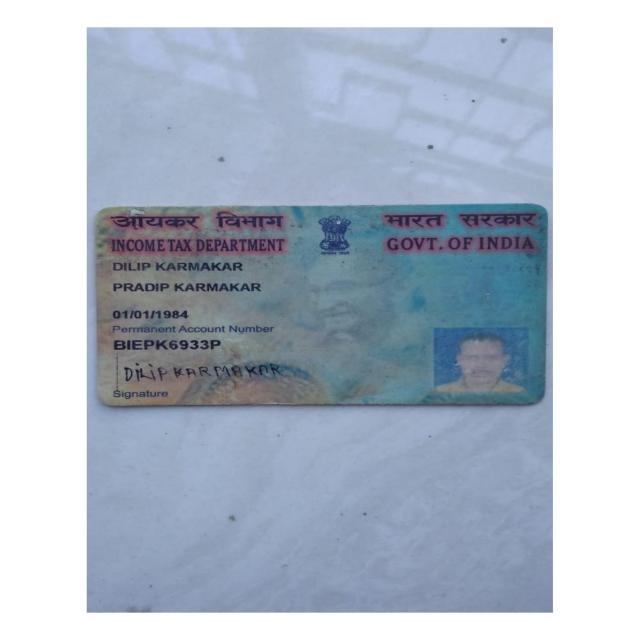pan_card: (94, 207, 541, 404)
